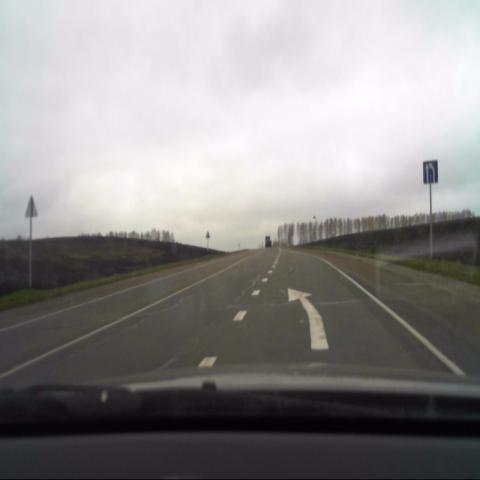5_15_5: (422, 158, 438, 186)
